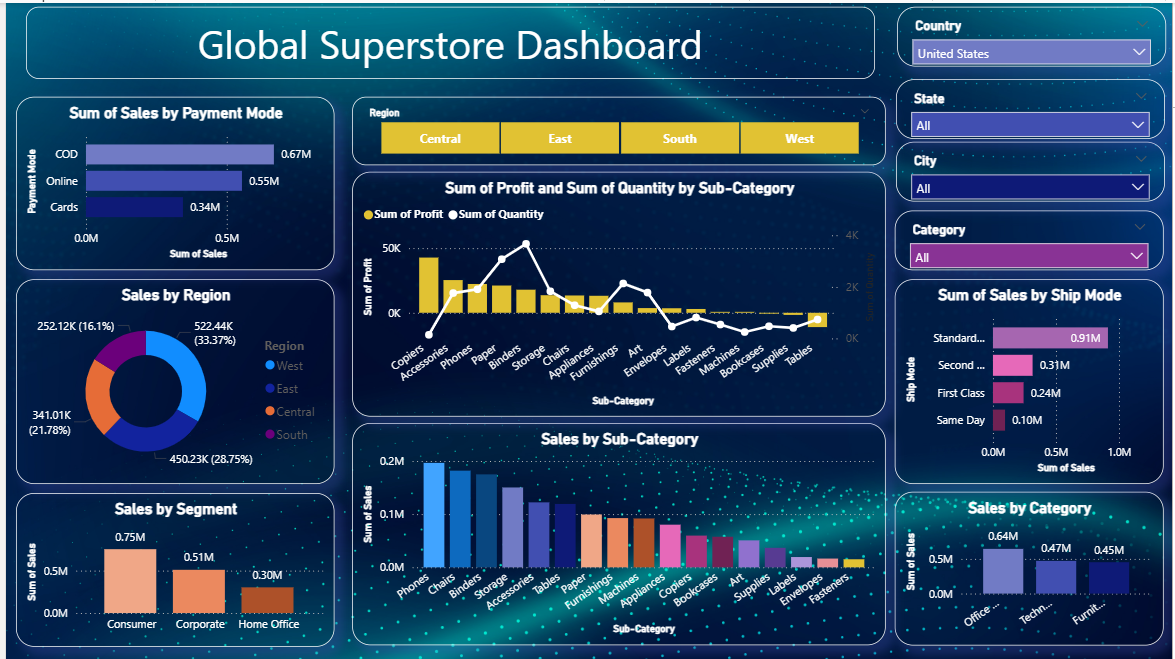

The page's visual inventory and layout, read from the dashboard file:
{"tool":"powerbi","page":{"name":"Page 1","canvas":[1280,720],"ordinal":0},"visuals":[{"type":"donutChart","title":"Sales by Region","fields":{"Y":["Sum(SuperStore_Sales_Dataset.Sales)"],"Category":["SuperStore_Sales_Dataset.Region"]},"box":[11,303.3,349.9,225],"z":0},{"type":"barChart","fields":{"Y":["Sum(SuperStore_Sales_Dataset.Sales)"],"Category":["SuperStore_Sales_Dataset.Payment Mode"]},"box":[11,102.9,349.9,190.7],"z":1000},{"type":"columnChart","title":"Sales by Segment","fields":{"Y":["Sum(SuperStore_Sales_Dataset.Sales)"],"Category":["SuperStore_Sales_Dataset.Segment"]},"box":[11,537.9,349.9,168.8],"z":2000},{"type":"columnChart","title":"Sales by Category","fields":{"Y":["Sum(SuperStore_Sales_Dataset.Sales)"],"Category":["SuperStore_Sales_Dataset.Category"]},"box":[975.6,536.5,295,168.8],"z":3000},{"type":"columnChart","title":"Sales by Sub-Category","fields":{"Y":["Sum(SuperStore_Sales_Dataset.Sales)"],"Category":["SuperStore_Sales_Dataset.Sub-Category"]},"box":[380.1,461.1,585.9,244.3],"z":4000},{"type":"barChart","fields":{"Y":["Sum(SuperStore_Sales_Dataset.Sales)"],"Category":["SuperStore_Sales_Dataset.Ship Mode"]},"box":[975.6,303.3,295,225],"z":5000},{"type":"lineClusteredColumnComboChart","fields":{"Y":["Sum(SuperStore_Sales_Dataset.Profit)"],"Category":["SuperStore_Sales_Dataset.Sub-Category"],"Y2":["Sum(SuperStore_Sales_Dataset.Quantity)"]},"box":[380.1,185.2,585.9,269],"z":6000},{"type":"slicer","fields":{"Values":["SuperStore_Sales_Dataset.Category"]},"box":[975.6,227.8,295,65.9],"z":7000},{"type":"slicer","fields":{"Values":["SuperStore_Sales_Dataset.City"]},"box":[977,152.3,295,65.9],"z":8000},{"type":"slicer","fields":{"Values":["SuperStore_Sales_Dataset.State"]},"box":[977,83.7,295,65.9],"z":9000},{"type":"slicer","fields":{"Values":["SuperStore_Sales_Dataset.Country"]},"box":[978.4,4.1,295,65.9],"z":10000},{"type":"slicer","fields":{"Values":["SuperStore_Sales_Dataset.Region"]},"box":[380.1,102.9,585.9,75.5],"z":11000},{"type":"textbox","box":[22,4.1,931.7,79.6],"z":11001}]}

Visuals, with their boxes in screenshot pixels (x1, y1, x2, y2), scaled from the page's 1280x720 canvas onto the 1175x659 screenshot:
"Sales by Region" donutChart: [left=10, top=278, right=331, bottom=484]
barChart - Sum(SuperStore_Sales_Dataset.Sales) x SuperStore_Sales_Dataset.Payment Mode: [left=10, top=94, right=331, bottom=269]
"Sales by Segment" columnChart: [left=10, top=492, right=331, bottom=647]
"Sales by Category" columnChart: [left=896, top=491, right=1166, bottom=646]
"Sales by Sub-Category" columnChart: [left=349, top=422, right=887, bottom=646]
barChart - Sum(SuperStore_Sales_Dataset.Sales) x SuperStore_Sales_Dataset.Ship Mode: [left=896, top=278, right=1166, bottom=484]
lineClusteredColumnComboChart - Sum(SuperStore_Sales_Dataset.Profit) x SuperStore_Sales_Dataset.Sub-Category: [left=349, top=170, right=887, bottom=416]
slicer - SuperStore_Sales_Dataset.Category: [left=896, top=209, right=1166, bottom=269]
slicer - SuperStore_Sales_Dataset.City: [left=897, top=139, right=1168, bottom=200]
slicer - SuperStore_Sales_Dataset.State: [left=897, top=77, right=1168, bottom=137]
slicer - SuperStore_Sales_Dataset.Country: [left=898, top=4, right=1169, bottom=64]
slicer - SuperStore_Sales_Dataset.Region: [left=349, top=94, right=887, bottom=163]
textbox: [left=20, top=4, right=875, bottom=77]
